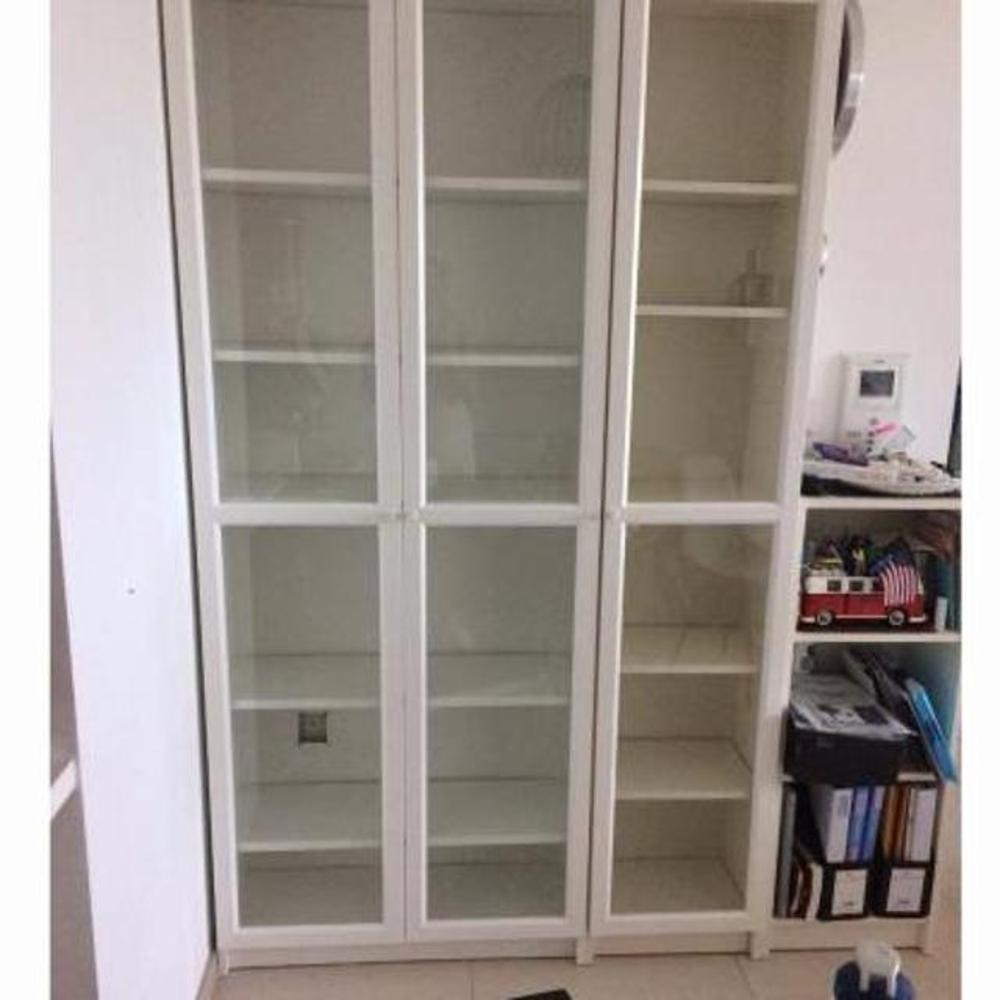lamp: (156, 0, 847, 983)
